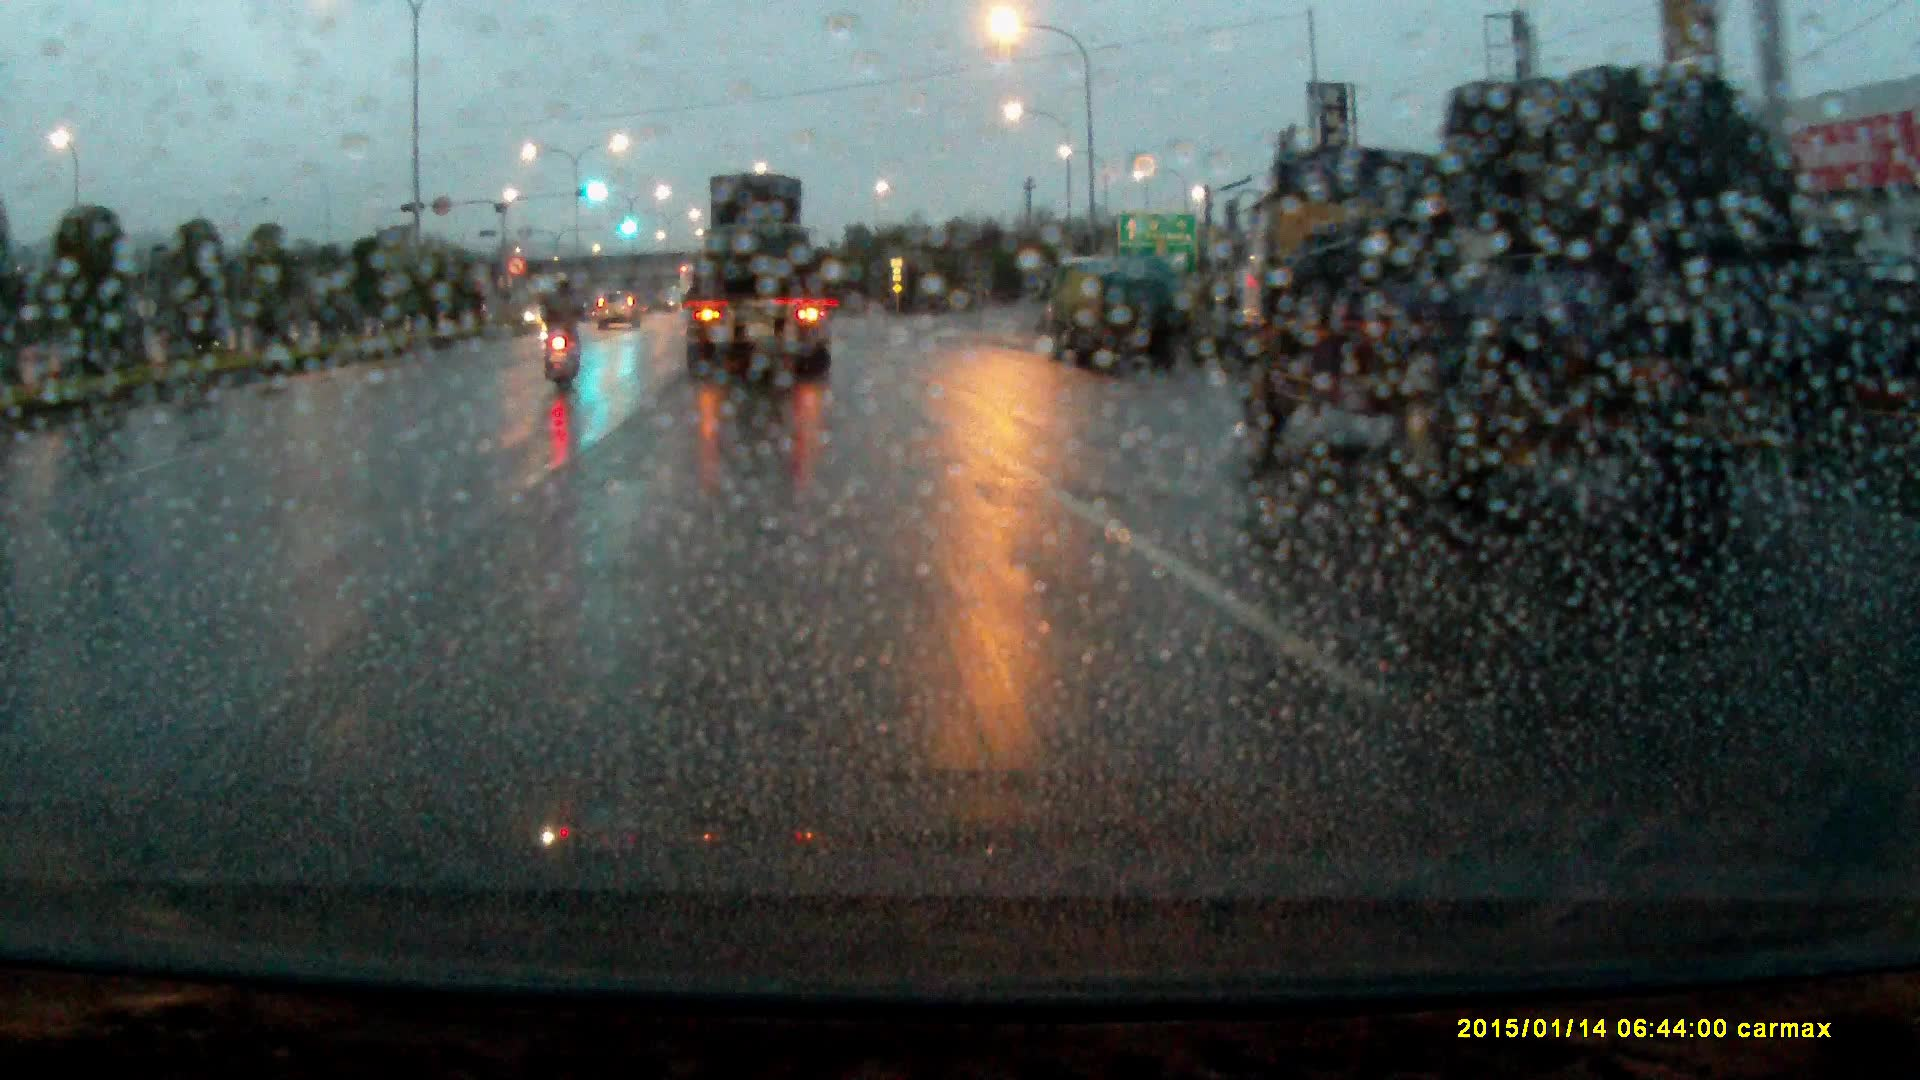rider: (539, 272, 590, 396)
vehicle: (1233, 73, 1882, 525), (678, 172, 836, 387), (1030, 259, 1191, 366), (599, 293, 644, 336), (678, 263, 703, 312)
